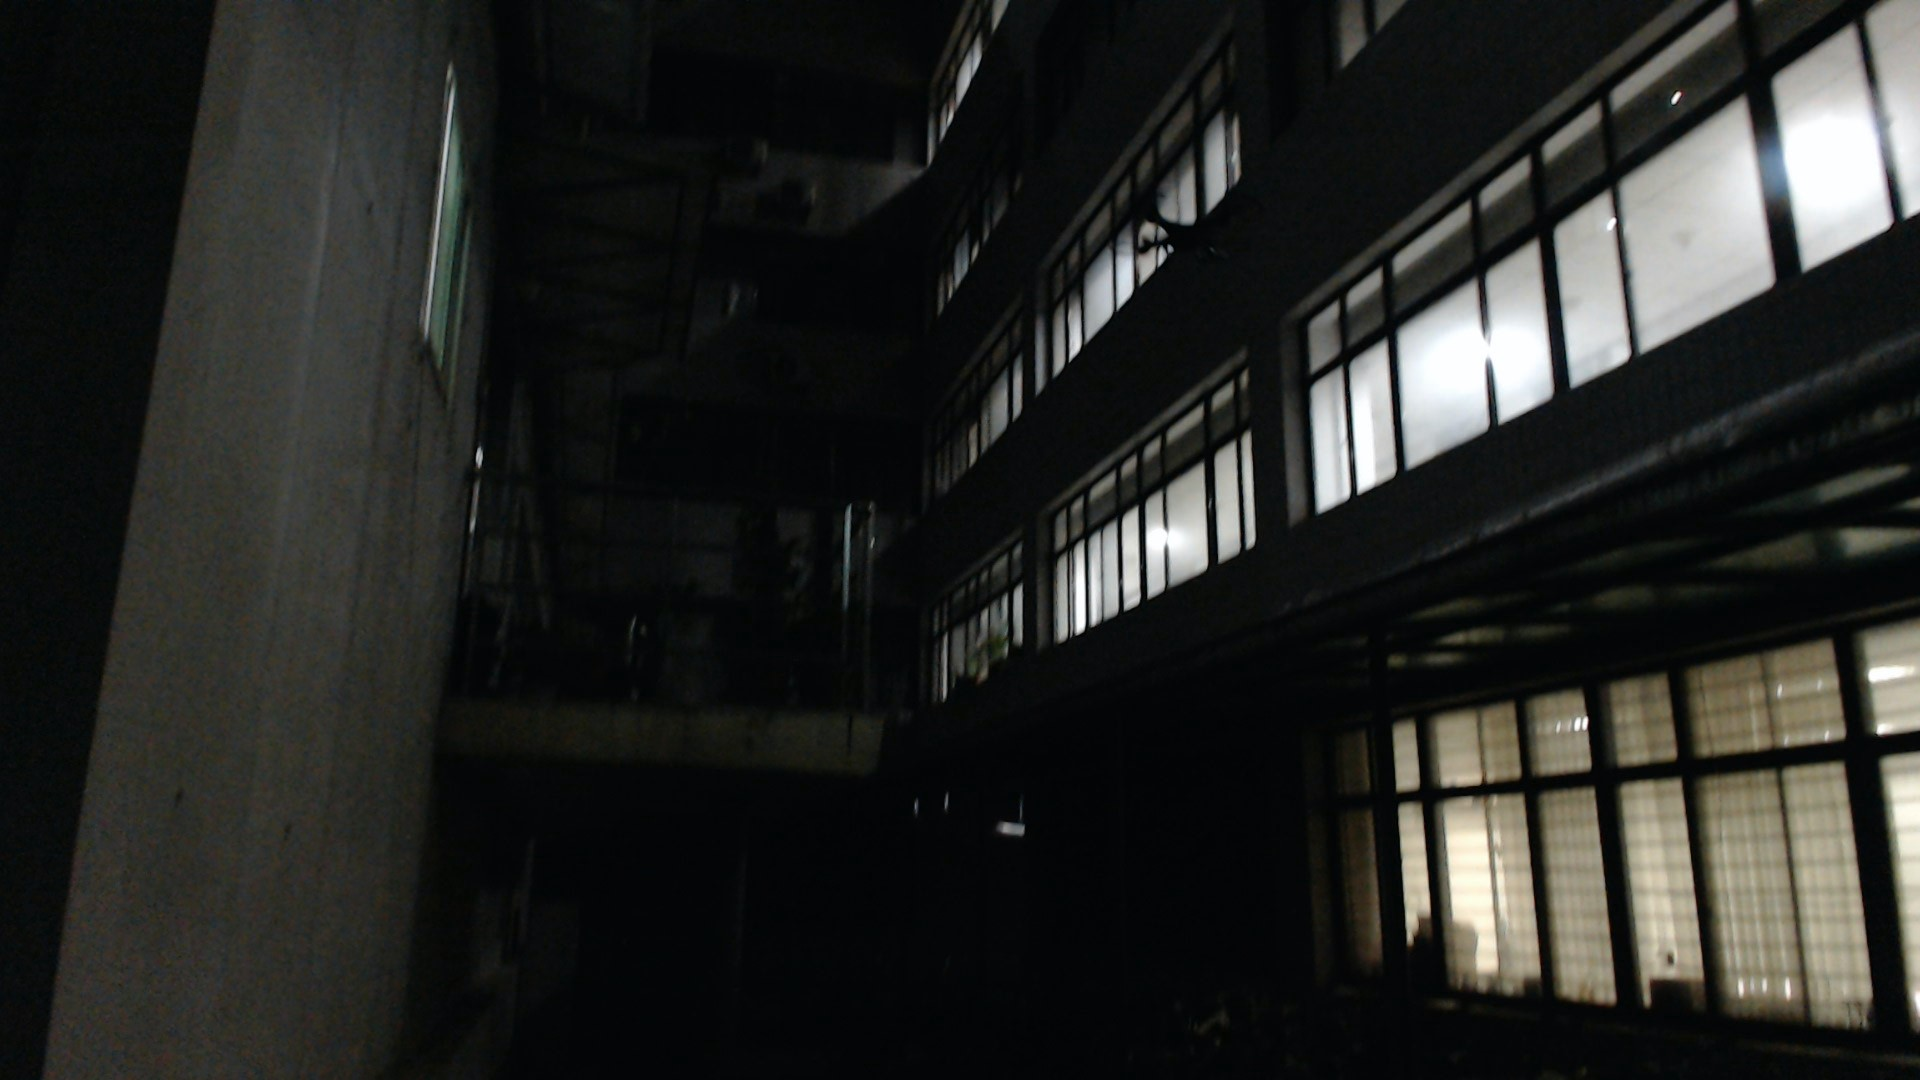drone: (1101, 185, 1274, 289)
